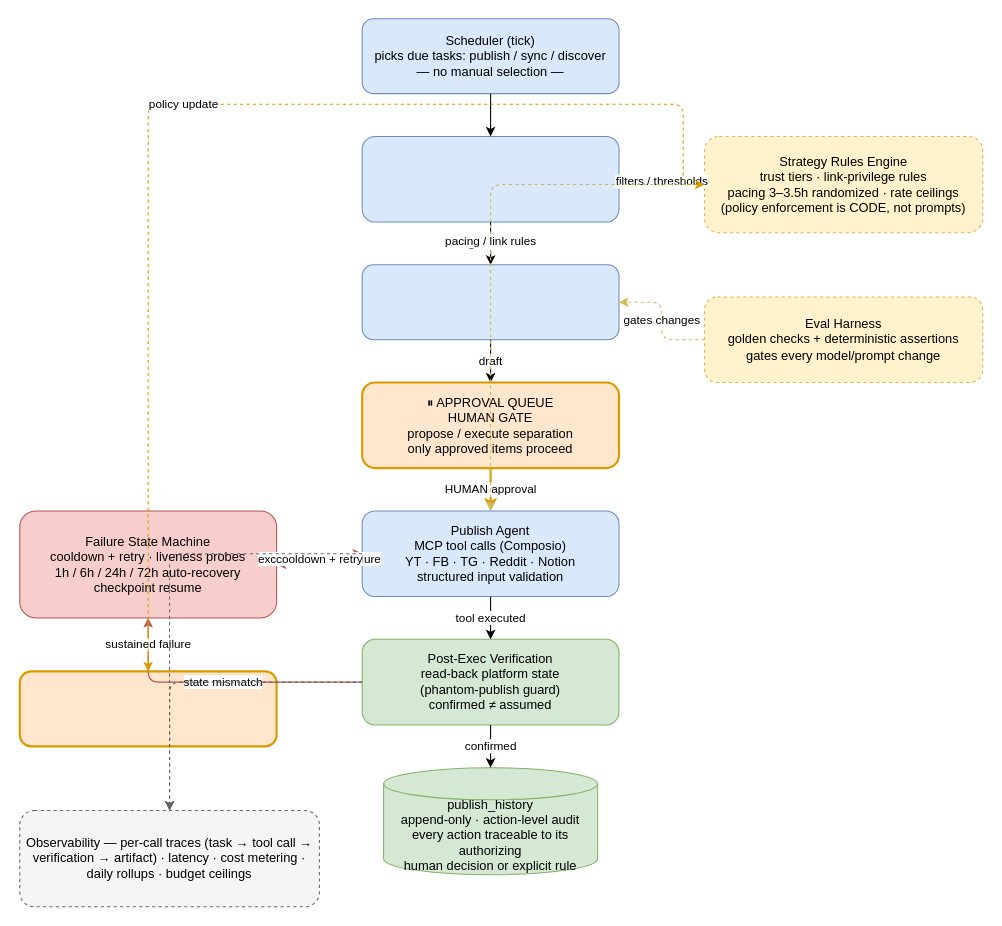
Some shapes in this 1002 by 926 pixel diagram are drawn without their labels. Each missing label, with the box of its shape:
Discover Agent scans rising posts karma-threshold filters auto-selects targets: (361, 135, 619, 222)
Gen Agent route brief → draft content (model-led, prompt-versioned): (361, 264, 619, 340)
⏸ ESCALATION HUMAN decision outcome recorded as policy: (18, 670, 277, 747)
